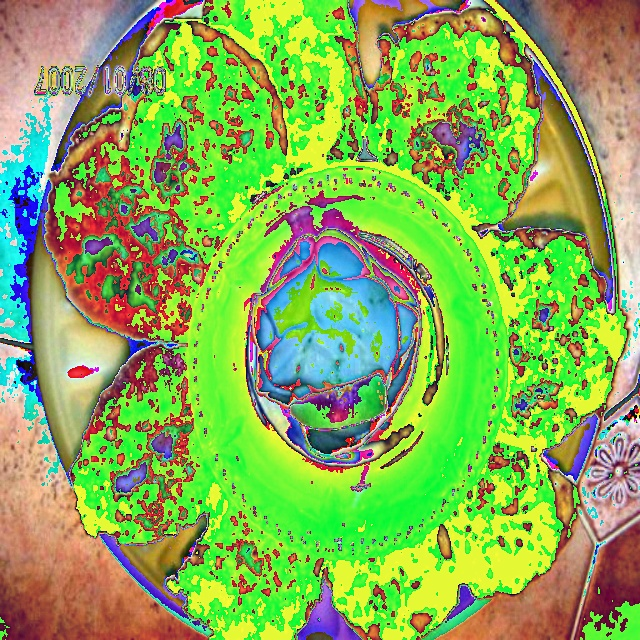background: (43, 0, 631, 639)
